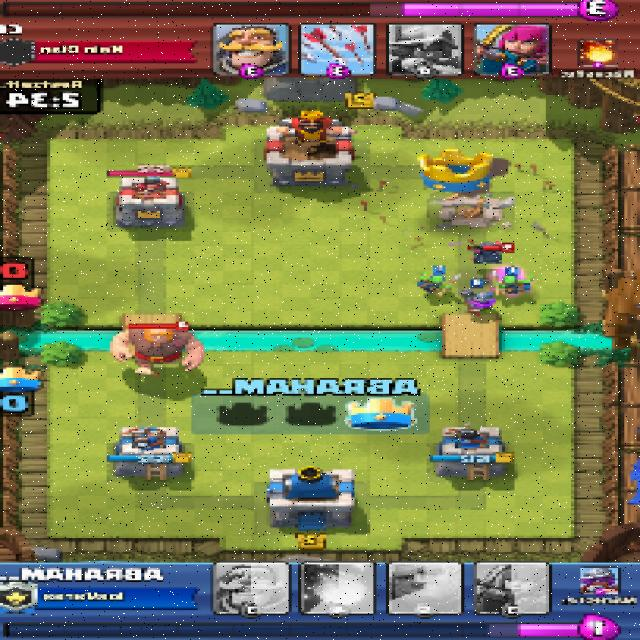Enemy-Giant: (110, 324, 204, 376)
Enemy-MiniPEKKA: (471, 243, 513, 263)
Player-Musketeer: (461, 290, 498, 313)
Player-SpearGoblin: (495, 276, 531, 295), (420, 274, 450, 296)
